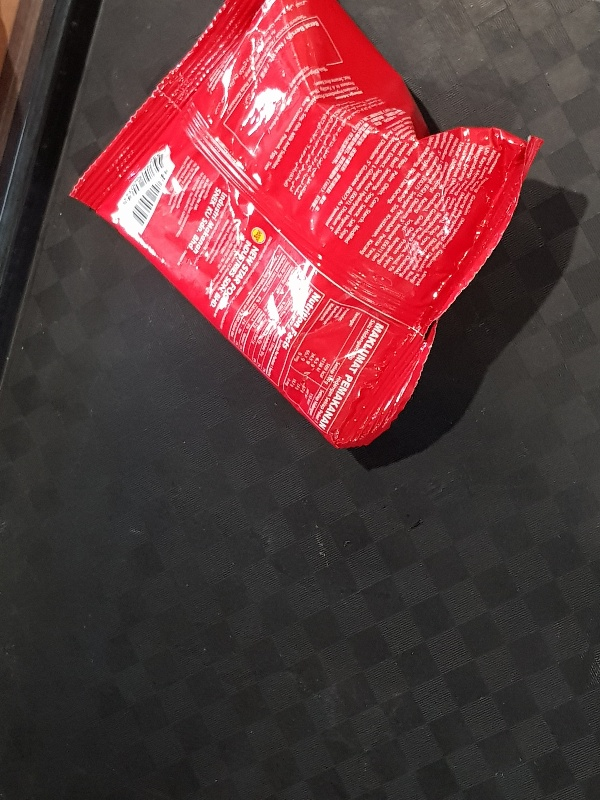ShoyueMi Spicy Flavoured Snacks: (68, 1, 542, 452)
